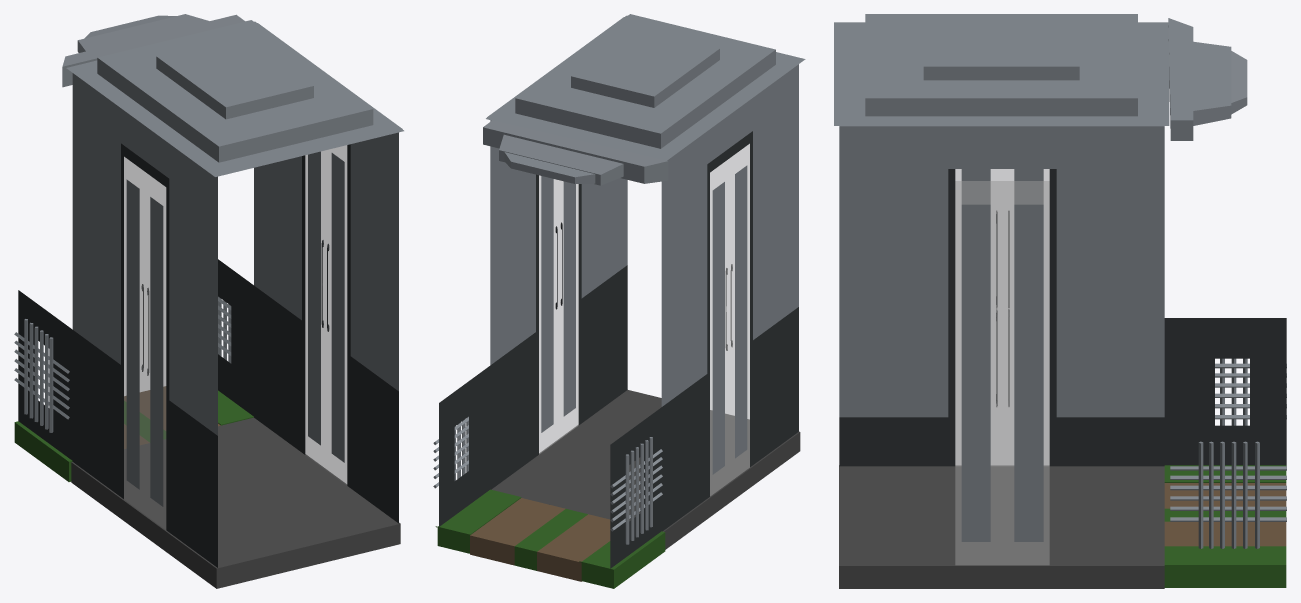
File: ThirdTileFixed.fbx
The picture shows the model from 3 angles, left to right: view 1: azimuth 30°, elevation 25°; view 2: azimuth 150°, elevation 25°; view 3: azimuth 270°, elevation 25°; orthographic projection. The views are drawn at different scales.
Visible parts, largest first — view 1: ThirdTile; view 2: ThirdTile; view 3: ThirdTile.
Part boxes in pixels (x1=…): ThirdTile: x1=14, y1=14, x2=403, y2=588; ThirdTile: x1=433, y1=14, x2=805, y2=588; ThirdTile: x1=834, y1=14, x2=1286, y2=588.
Size of the model in its own units: 1270 by 2697 by 2232.
